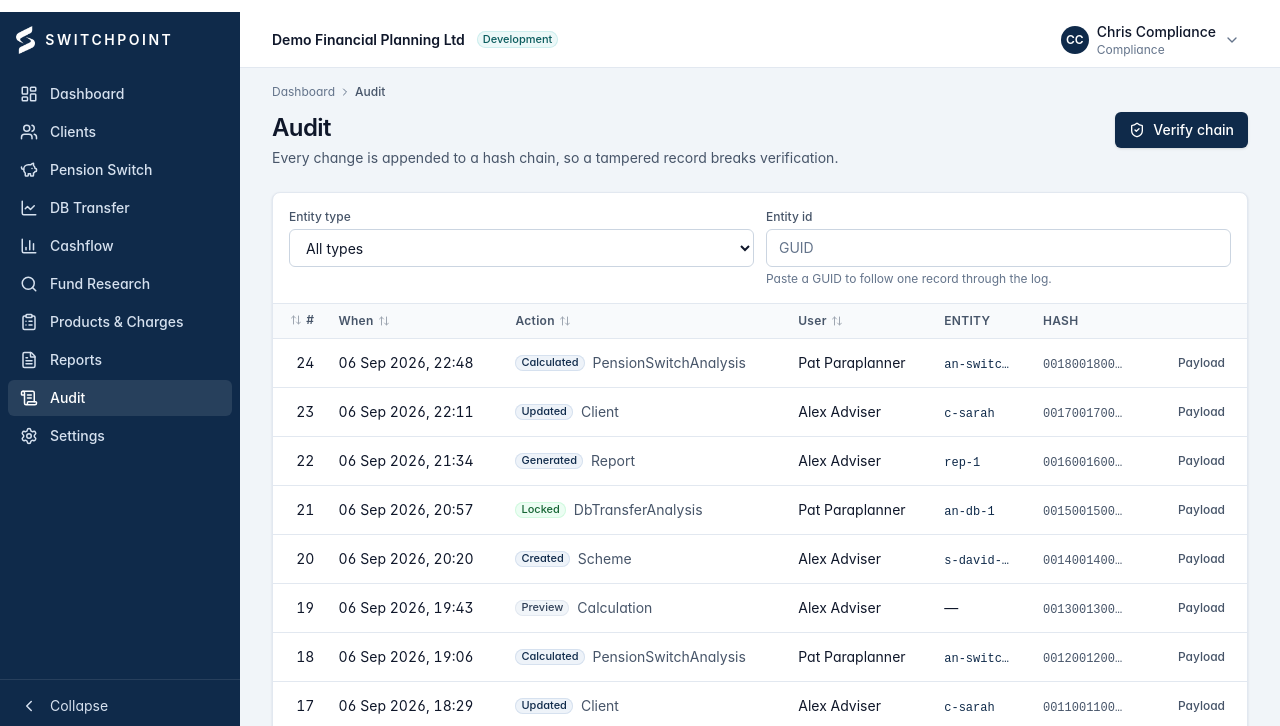
Test: audit › lists events and verifies the hash chain
Expected: the heading "Audit" is shown, [272, 113, 331, 142]
What coordinates should you click on to do the following:
click the button "Verify chain"
I would click on:
 (1182, 130)
Its box is [1115, 112, 1248, 148].
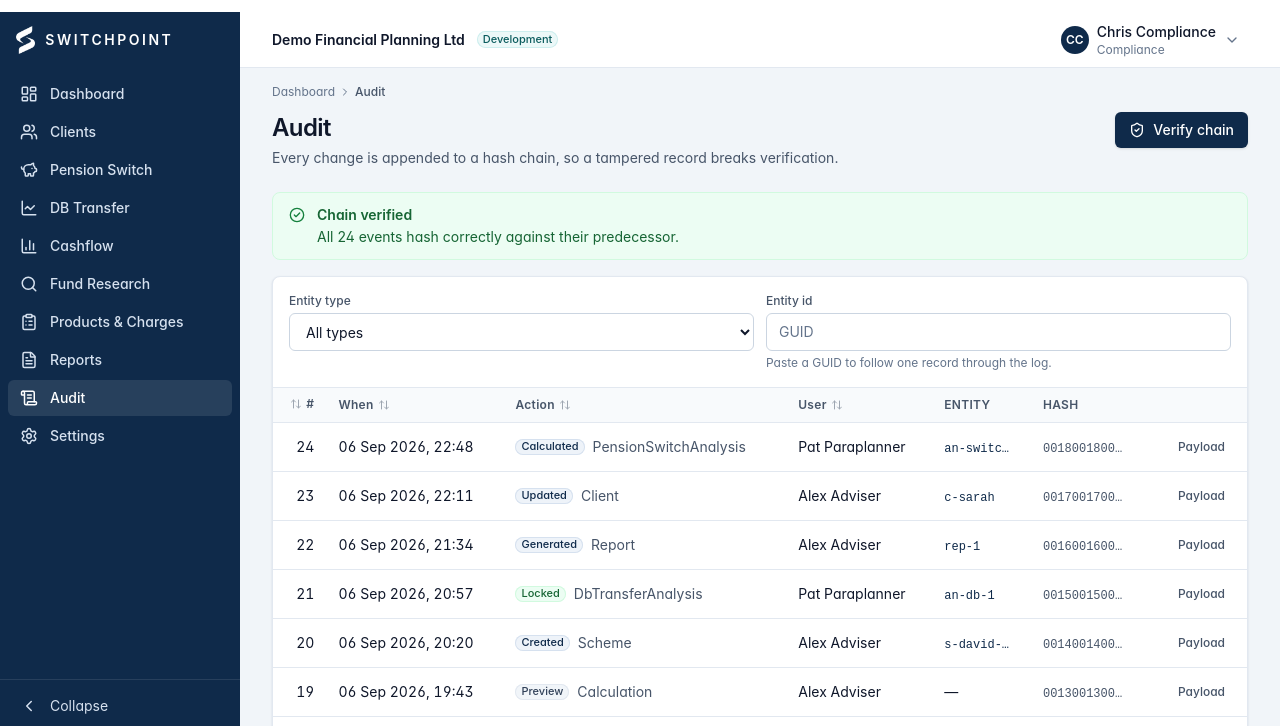
Expected: the text "Chain verified" is shown, [317, 206, 412, 223]
Expected: the text "All 24 events hash correctly against their predecessor." is shown, [317, 228, 679, 245]
